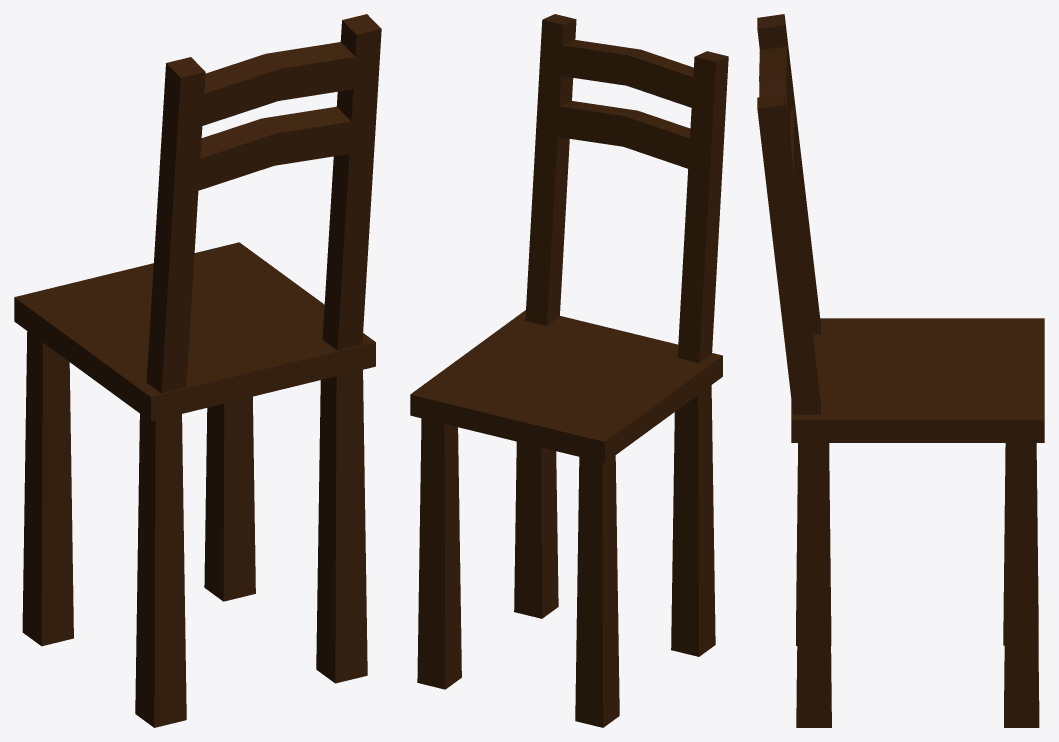
The model's file is SillaCocina.FBX.
3 views of the same model, side by side, from view 1: azimuth 30°, elevation 25°; view 2: azimuth 150°, elevation 25°; view 3: azimuth 270°, elevation 25° (orthographic). The views are drawn at different scales.
Visible parts, largest first — view 1: SillaCocina; view 2: SillaCocina; view 3: SillaCocina.
Part boxes in pixels (<box>): SillaCocina: <box>14,14,381,727</box>; SillaCocina: <box>410,14,728,727</box>; SillaCocina: <box>757,14,1044,727</box>.
Size of the model in its own units: 1.04 by 2.94 by 1.23.
